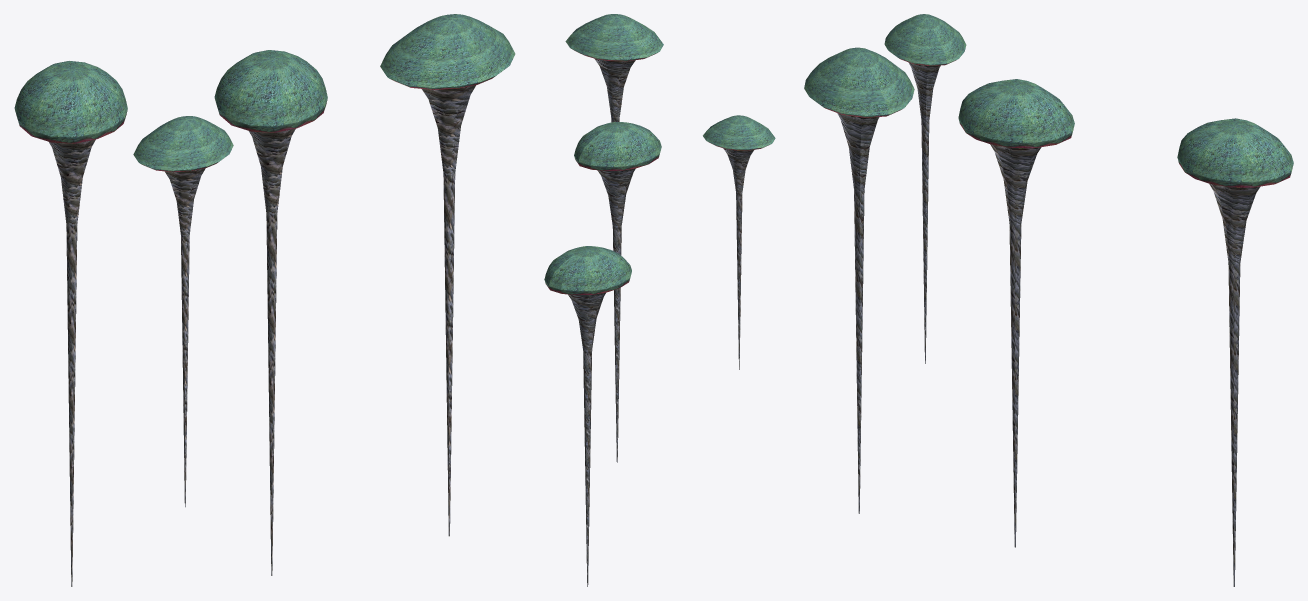
The model's file is Frog Forest 17.fbx.
The picture shows the model from 3 angles, left to right: view 1: azimuth 30°, elevation 25°; view 2: azimuth 150°, elevation 25°; view 3: azimuth 270°, elevation 25°; orthographic projection. The views are drawn at different scales.
Parts seen in each view (by area): view 1: Frog Forest 17; view 2: Frog Forest 17; view 3: Frog Forest 17.
Part boxes in pixels (x1=…): Frog Forest 17: x1=14, y1=14, x2=515, y2=586; Frog Forest 17: x1=544, y1=14, x2=775, y2=586; Frog Forest 17: x1=804, y1=14, x2=1293, y2=586.
Bounding box in the file's own units: 879428 × 1686921 × 1233437.
